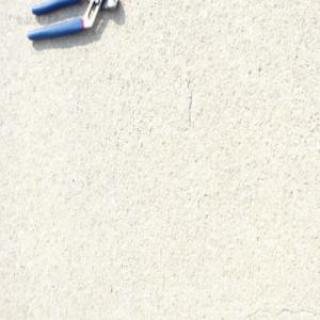Pliertrack_idkeyframe: (25, 0, 119, 43)
